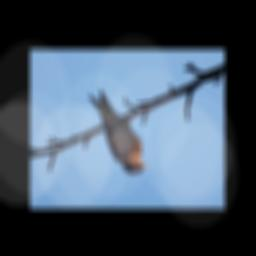Swallow: (88, 90, 148, 174)
